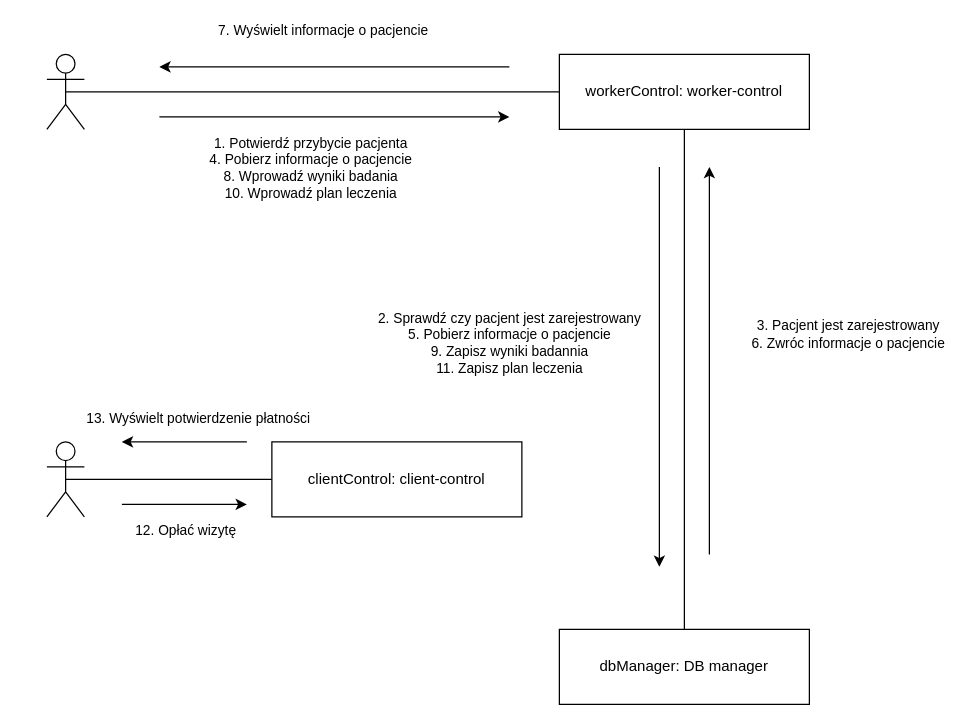
Some shapes in this 966 by 726 pixel diagram are drawn without their labels. The centre of each missing label's shape, as x and y in pixels:
"client:Client" goes at (65,479).
"lekarz:Doctor" goes at (65,91).
